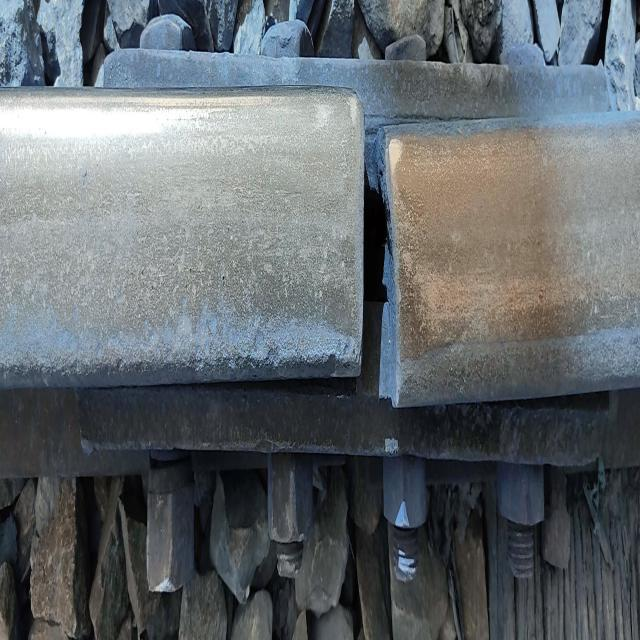Good Joint: (105, 30, 602, 569)
